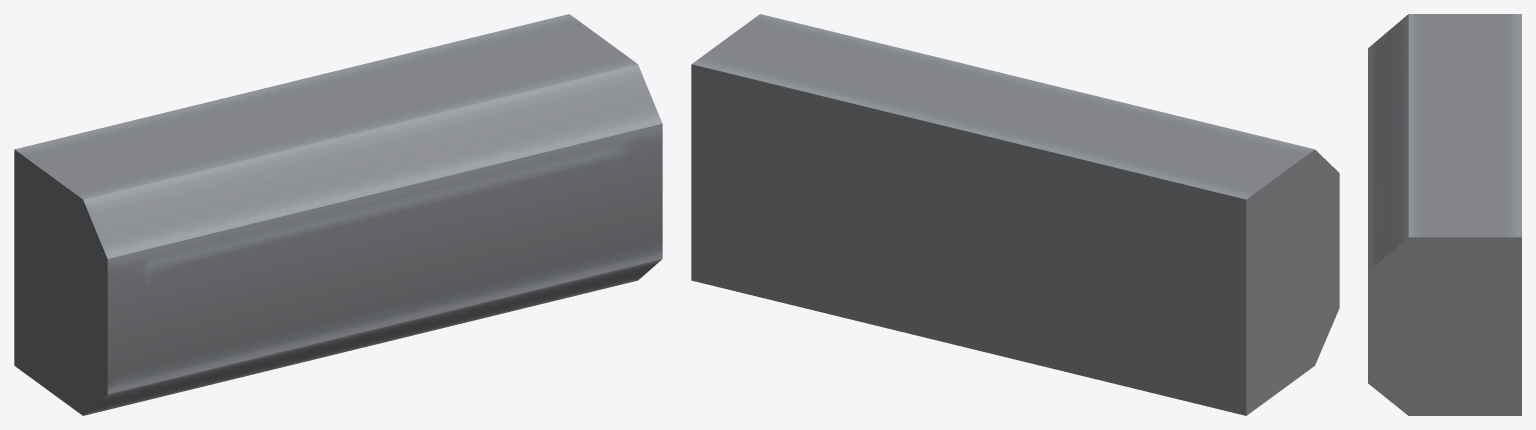
Rendered from SM_Stage1_Wall_Door.fbx.
The picture shows the model from 3 angles, left to right: view 1: azimuth 30°, elevation 25°; view 2: azimuth 150°, elevation 25°; view 3: azimuth 270°, elevation 25°; orthographic projection. The views are drawn at different scales.
Parts seen in each view (by area): view 1: SM_Stage1_Wall_Door; view 2: SM_Stage1_Wall_Door; view 3: SM_Stage1_Wall_Door.
Part boxes in pixels (x1=…): SM_Stage1_Wall_Door: x1=14, y1=14, x2=662, y2=415; SM_Stage1_Wall_Door: x1=691, y1=14, x2=1339, y2=415; SM_Stage1_Wall_Door: x1=1368, y1=14, x2=1521, y2=415.
Bounding box in the file's own units: 140 × 52.16 × 40.69.
Materials: 1 (1 with a texture image).
